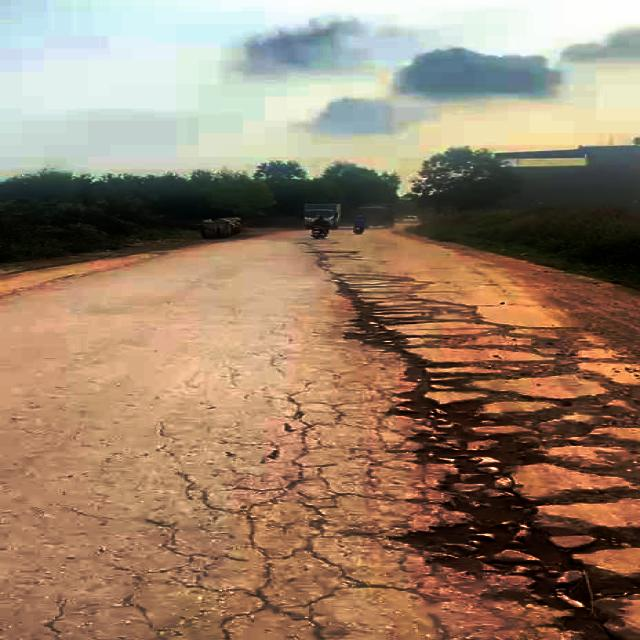pothole: (379, 413, 639, 640), (334, 294, 623, 418)
